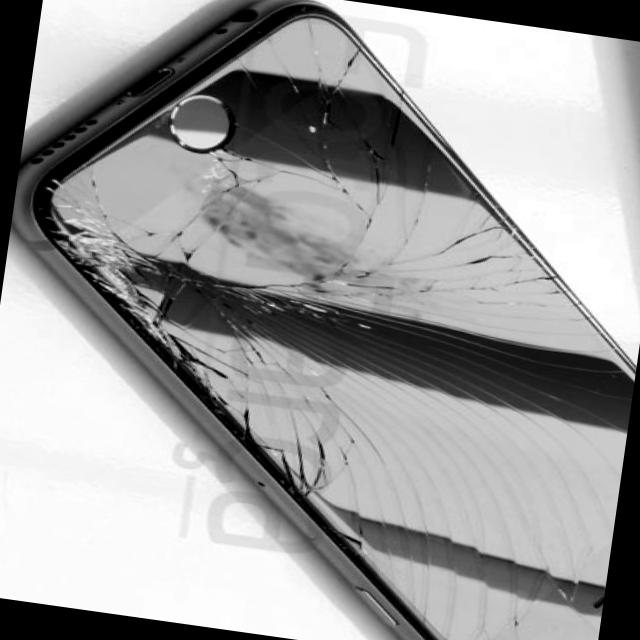Crack: (162, 18, 615, 349), (91, 333, 591, 629), (11, 120, 275, 372)
